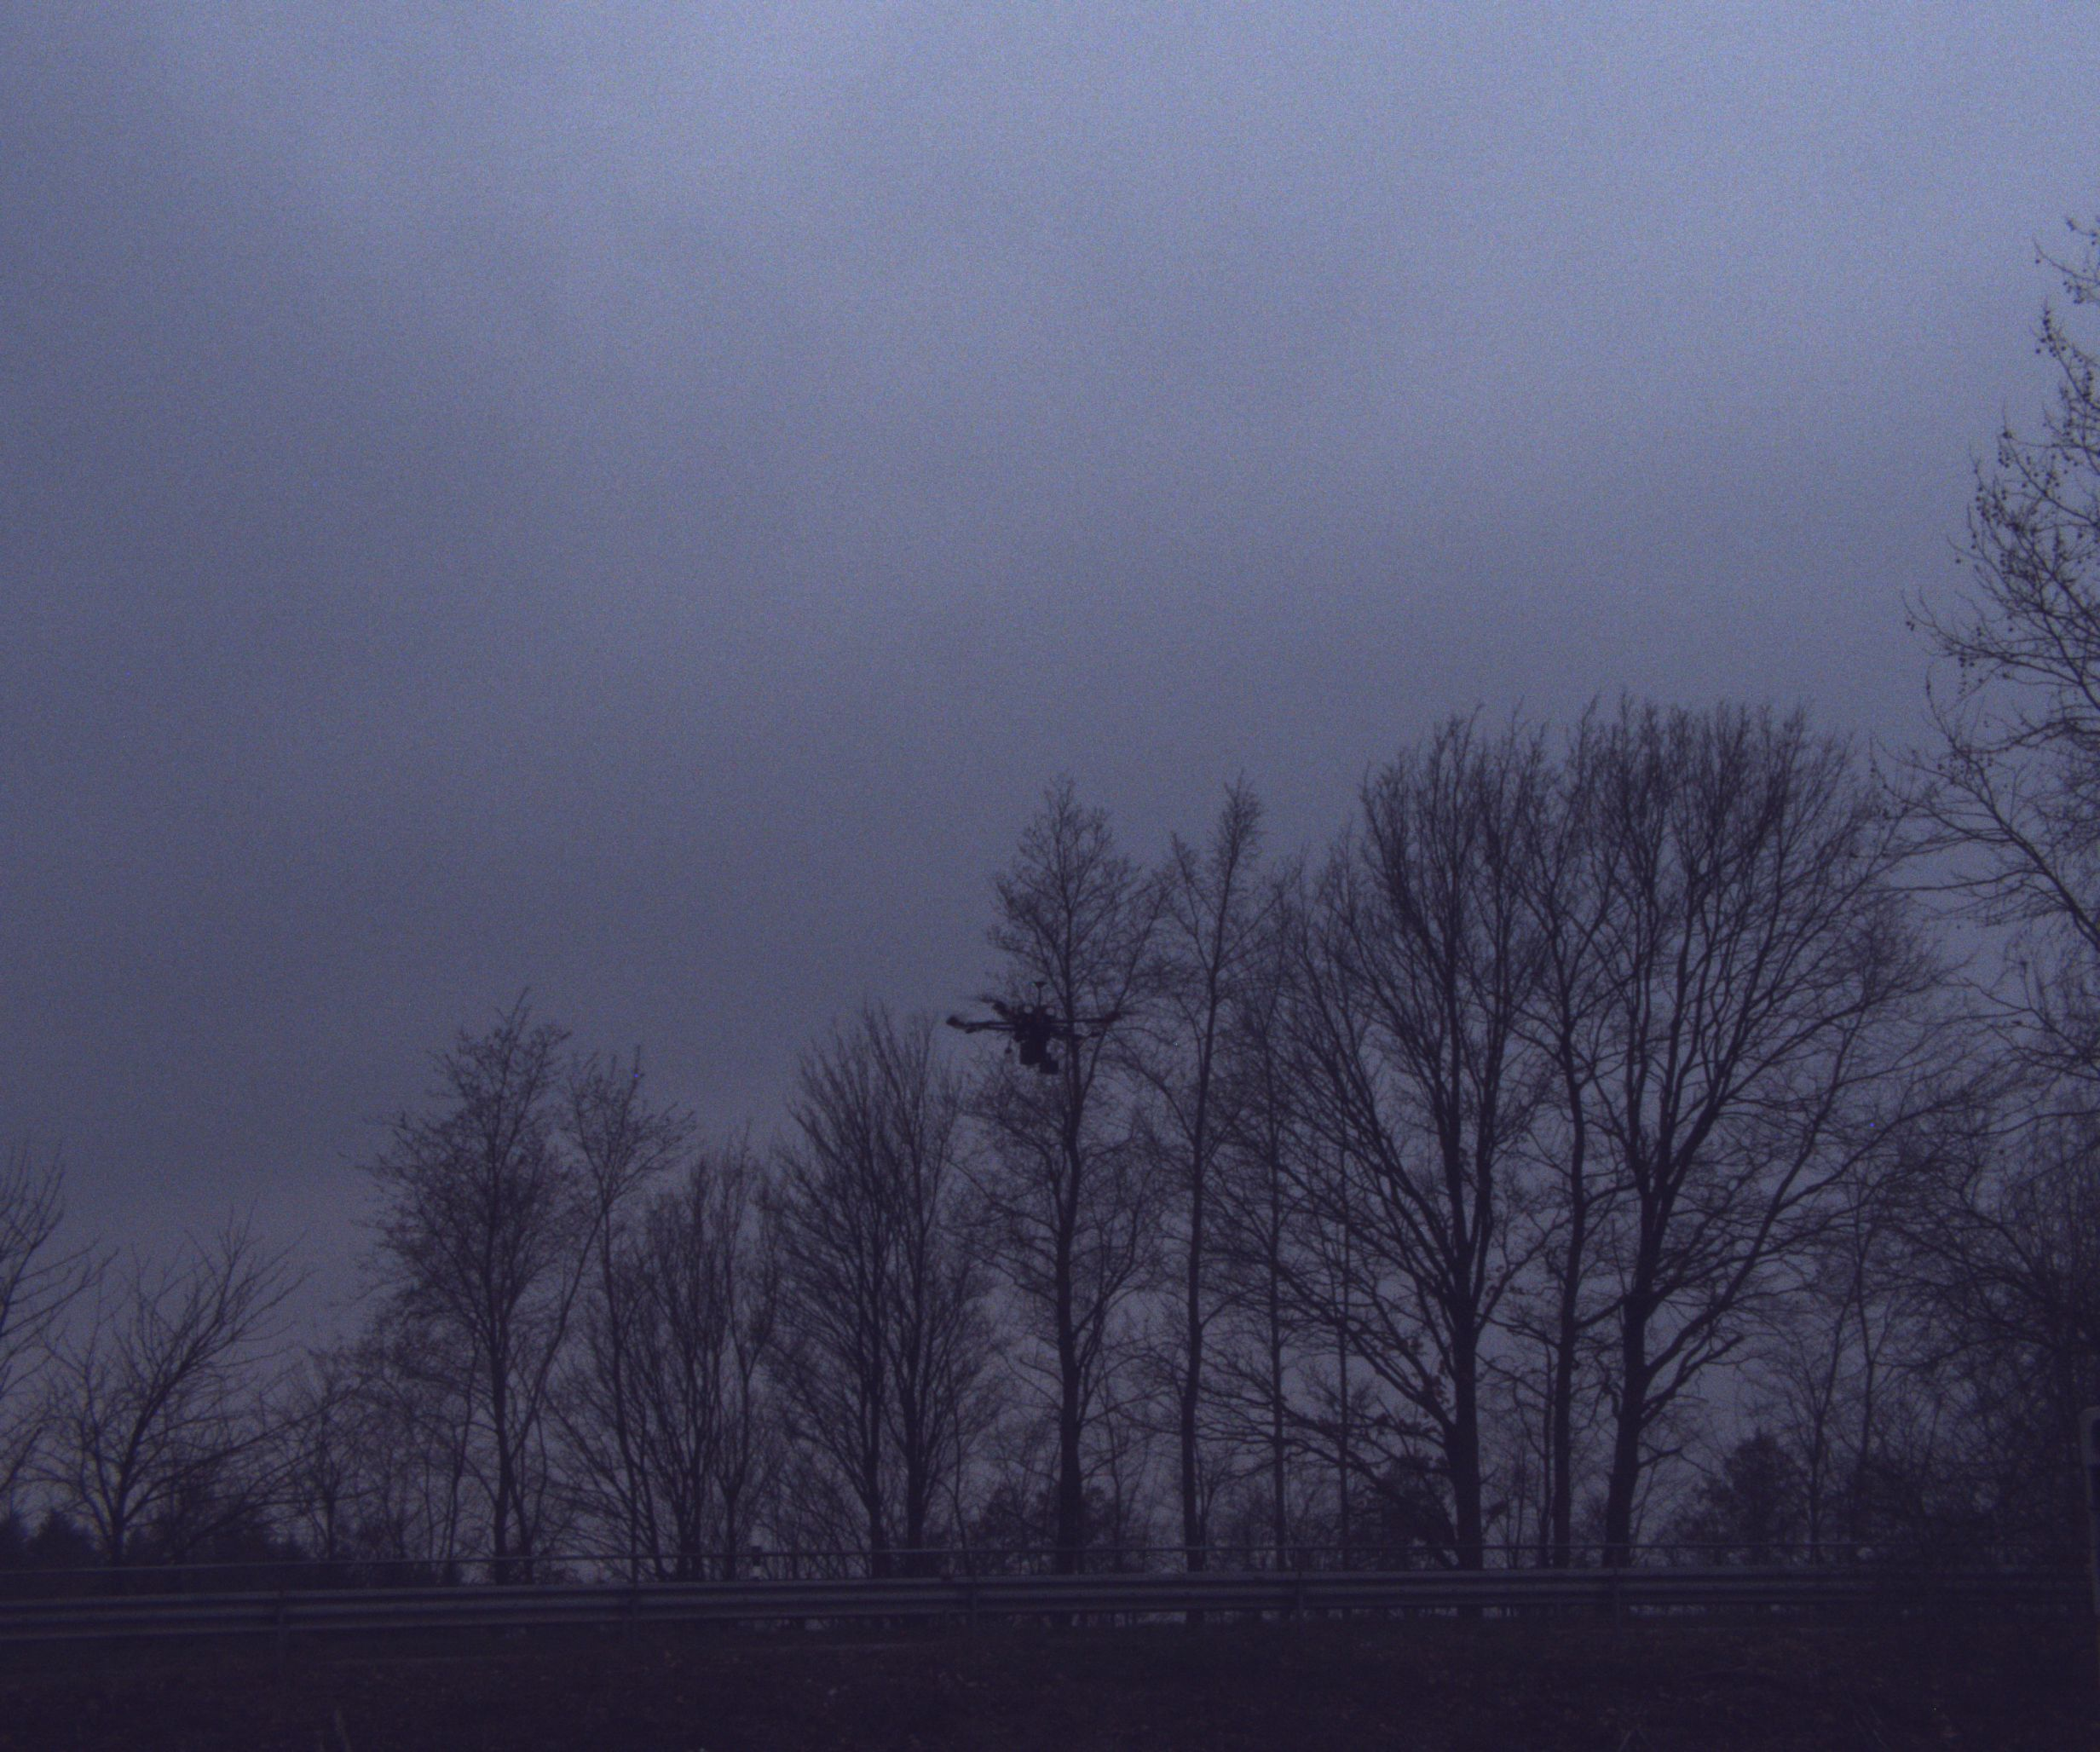Drohne: (933, 964, 1170, 1112)
